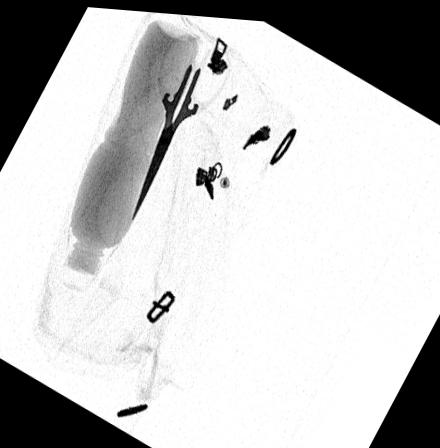Scissors: (128, 27, 235, 218)
